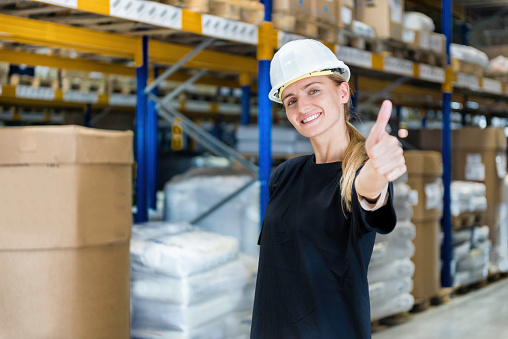em pe: (210, 49, 405, 339)
